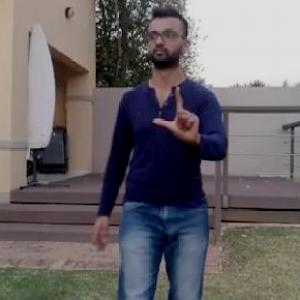land_hand: (145, 80, 204, 149)
